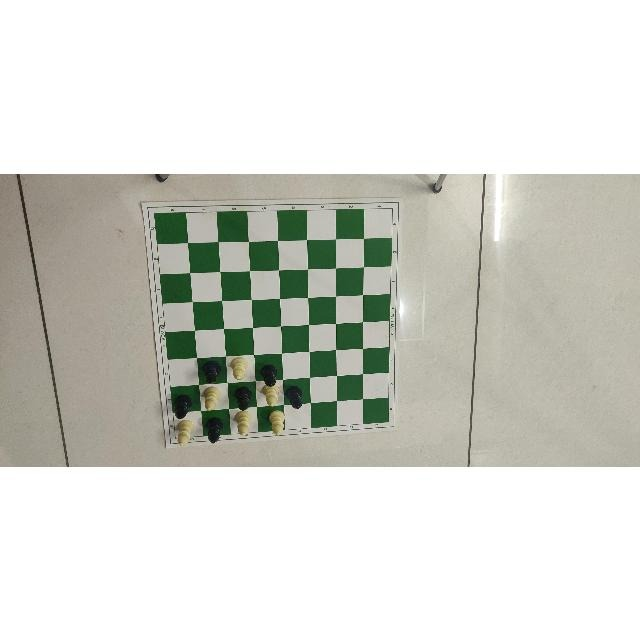black-bishop: (280, 378, 305, 412), (203, 415, 225, 446), (199, 357, 223, 383), (172, 392, 193, 418), (260, 362, 280, 388), (235, 384, 253, 411)
white-bishop: (265, 409, 289, 439), (233, 408, 254, 438), (260, 383, 283, 409), (200, 383, 222, 410), (226, 356, 250, 380), (173, 418, 193, 446)
